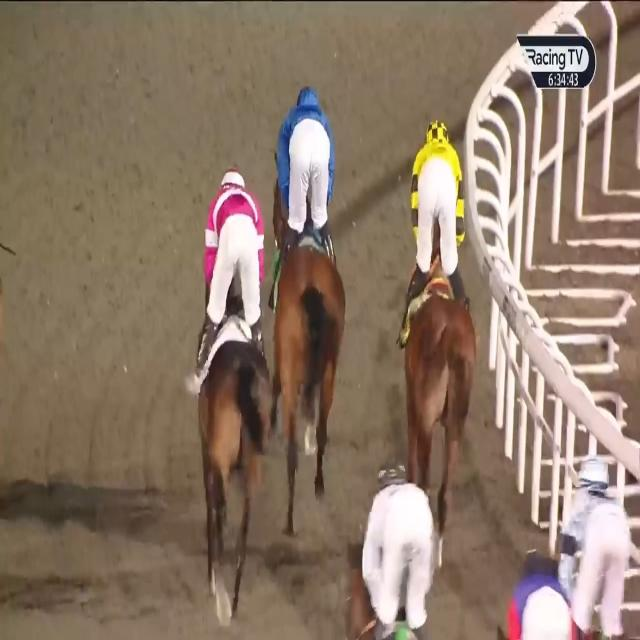horses-racing: (190, 163, 269, 607), (270, 81, 342, 529), (392, 116, 472, 497), (347, 451, 437, 640), (563, 452, 630, 640), (505, 538, 578, 640)
